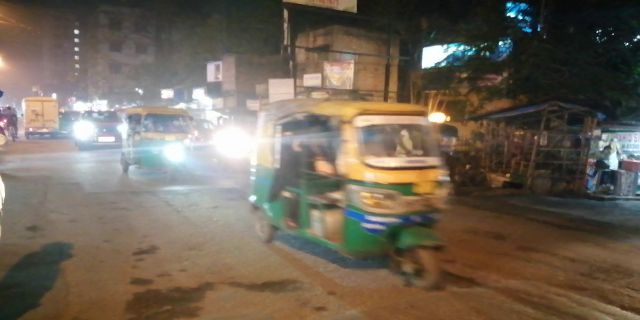Autorickshaw: (251, 86, 461, 293), (128, 104, 202, 182)
